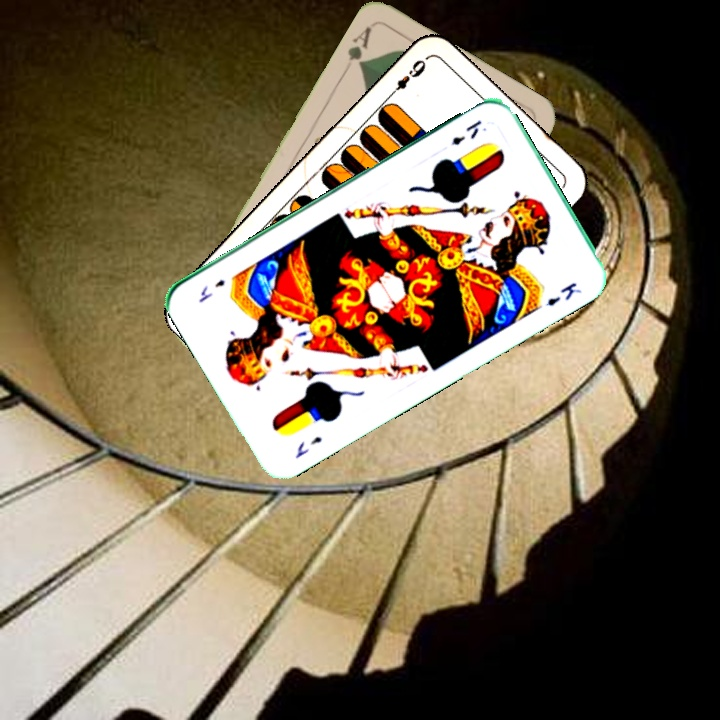E9: (384, 55, 429, 100)
EK: (447, 115, 484, 148), (291, 432, 325, 461)
GA: (339, 22, 374, 76)
